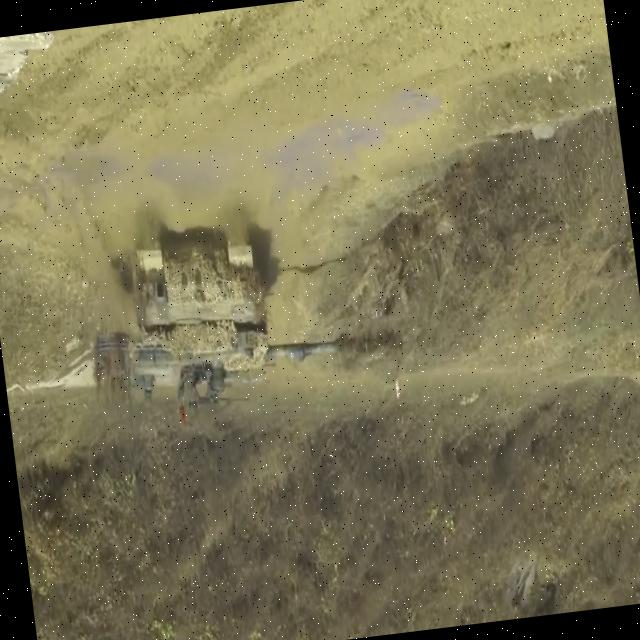korea tank: (72, 174, 410, 431)
